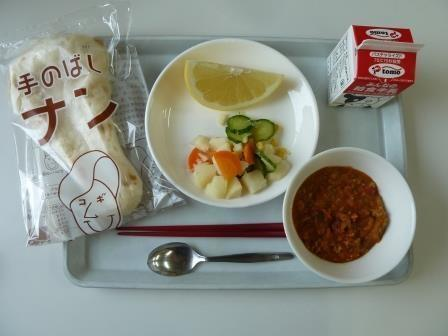Bread: (11, 34, 152, 233)
Citrus: (167, 48, 293, 113)
Curry: (285, 152, 416, 277)
Milk: (327, 20, 424, 113)
Salad: (174, 102, 299, 201)
